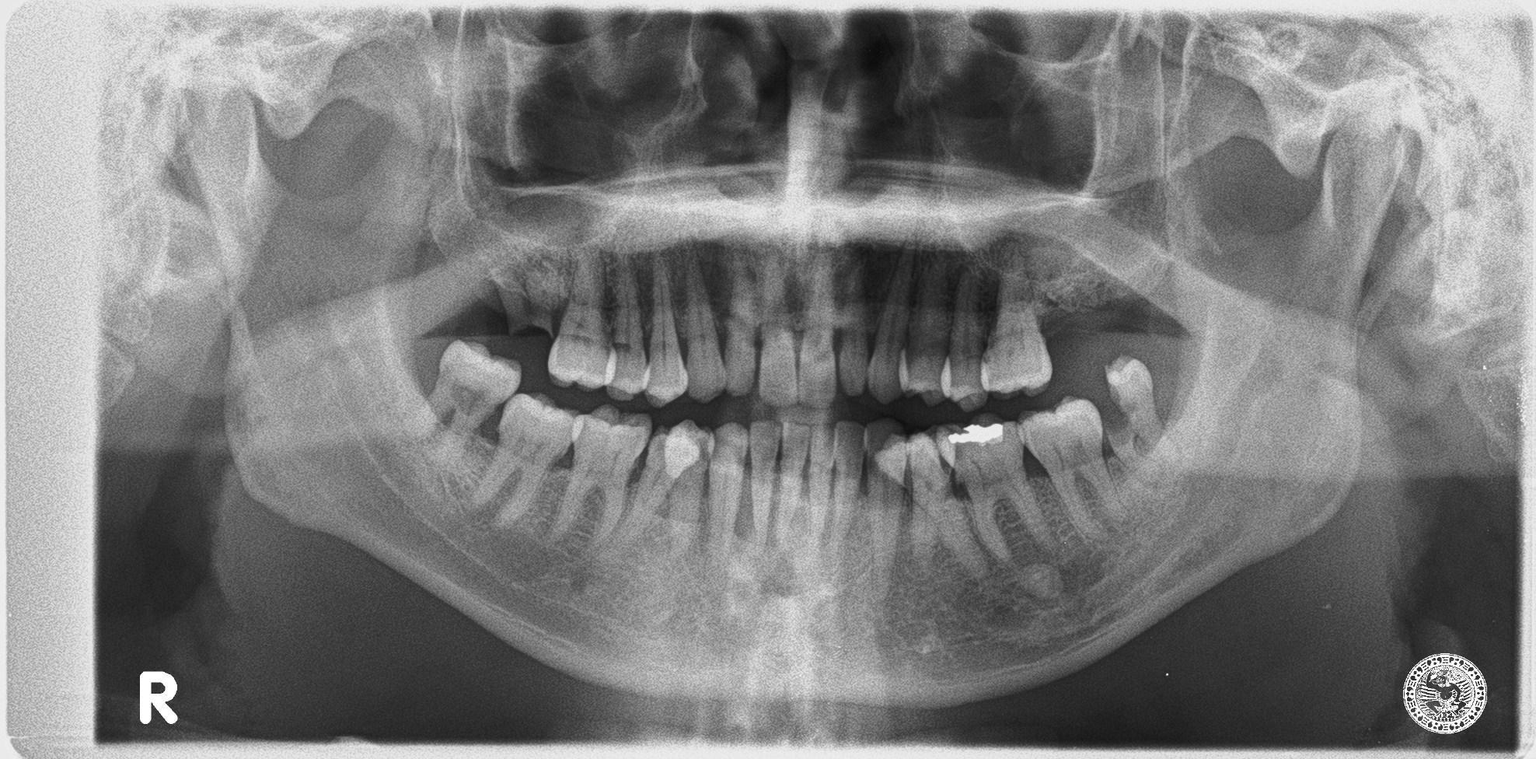Individual Tooth: (934, 411, 1060, 563), (875, 433, 988, 580), (598, 420, 712, 561), (465, 393, 582, 527), (1017, 399, 1127, 539), (550, 406, 651, 541), (411, 341, 521, 456), (979, 246, 1053, 401), (898, 239, 955, 408), (549, 250, 616, 389), (865, 417, 909, 604), (869, 233, 915, 401), (939, 267, 991, 414), (1105, 354, 1177, 459), (913, 425, 964, 570), (643, 257, 688, 408), (683, 240, 725, 401), (666, 420, 714, 557), (606, 254, 650, 400), (797, 252, 835, 409), (707, 423, 747, 563), (720, 253, 757, 397), (760, 265, 796, 407), (833, 421, 868, 550), (841, 268, 871, 401), (777, 423, 810, 543), (808, 422, 839, 548), (750, 420, 780, 547)
